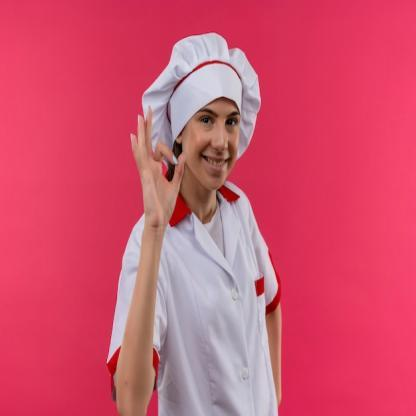ok: (130, 103, 188, 238)
